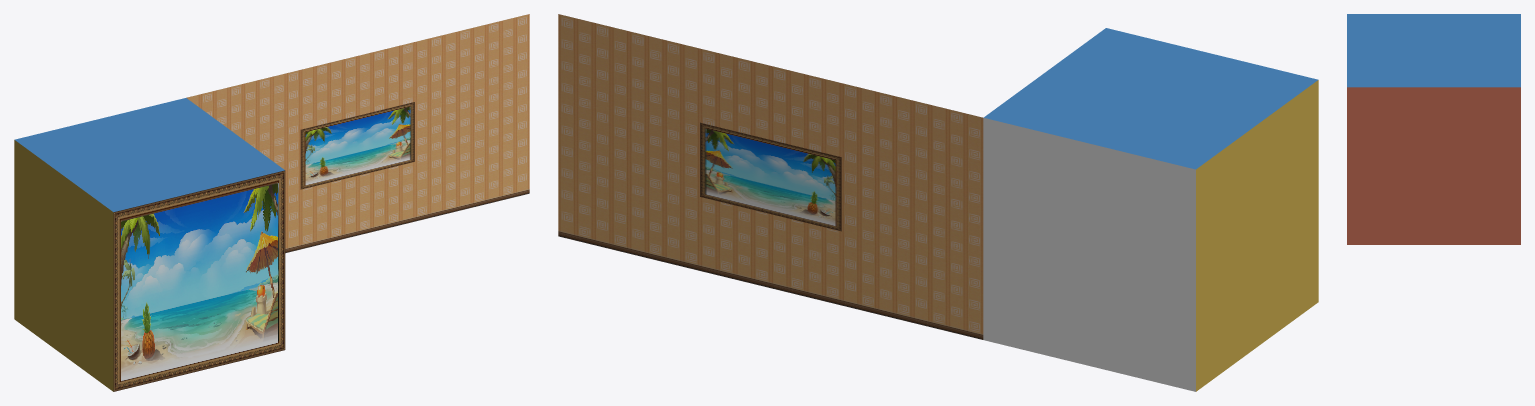
The model's file is several_materials.obj.
3 views of the same model, side by side, from view 1: azimuth 30°, elevation 25°; view 2: azimuth 150°, elevation 25°; view 3: azimuth 270°, elevation 25° (orthographic). The views are drawn at different scales.
Parts seen in each view (by area): view 1: Box001, Plane001; view 2: Box001, Plane001; view 3: Box001.
Boxes of the visible parts, box(x1,y1,x2,y2) form: Box001: box(14, 98, 285, 391); Plane001: box(186, 14, 529, 253); Box001: box(983, 28, 1318, 391); Plane001: box(558, 14, 983, 339); Box001: box(1347, 14, 1520, 244).
Bounding box in the file's own units: 300 × 100 × 100.
